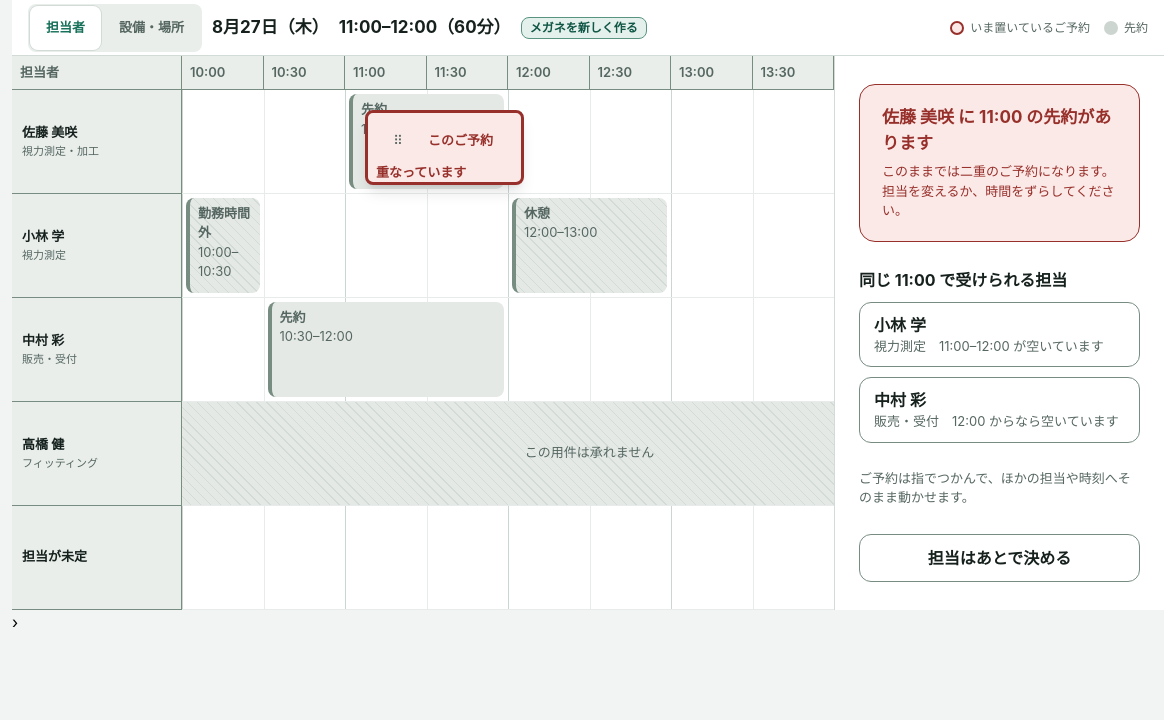
凡例と帯の言い方 › 運んでいる間の凡例は「動かしているご予約／置く先」に差し替わる
The width and height of the screenshot is (1164, 720).
Step 1. Press the mouse on the button named "ご予約をつかんで動かす" → (398, 141), box left=376, top=119, right=420, bottom=163
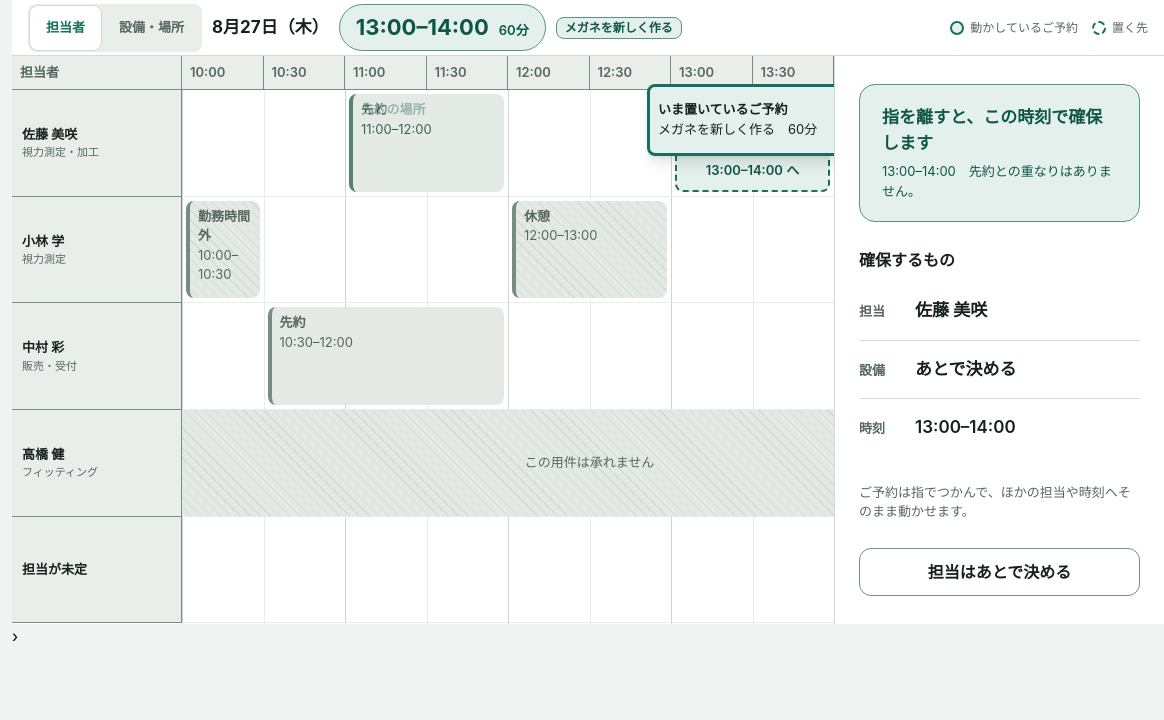
Result: the text "動かしているご予約" is shown at left=950, top=18, right=1078, bottom=36
